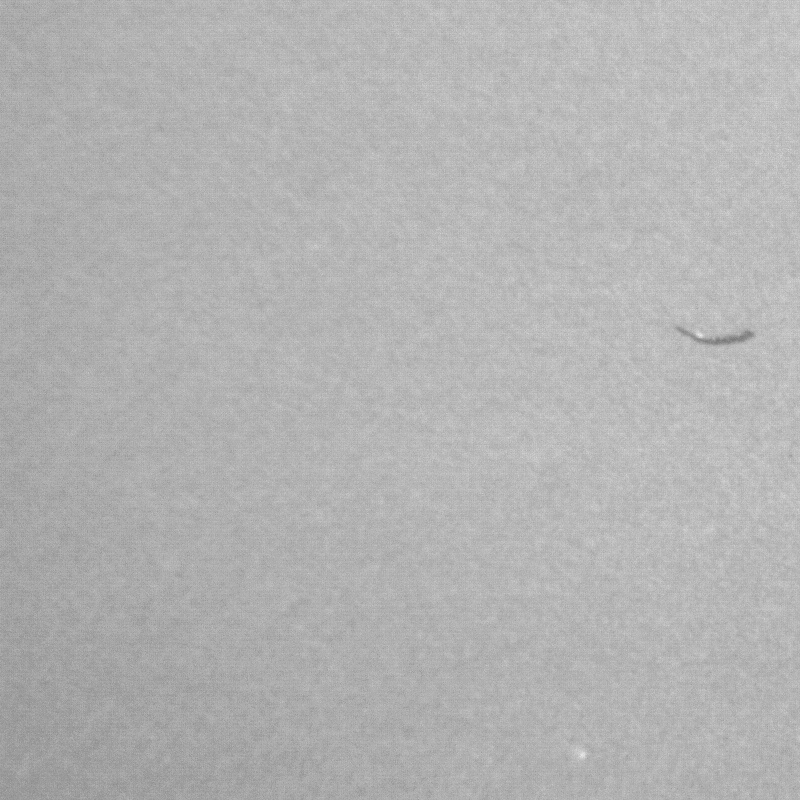defect: (673, 318, 759, 347)
